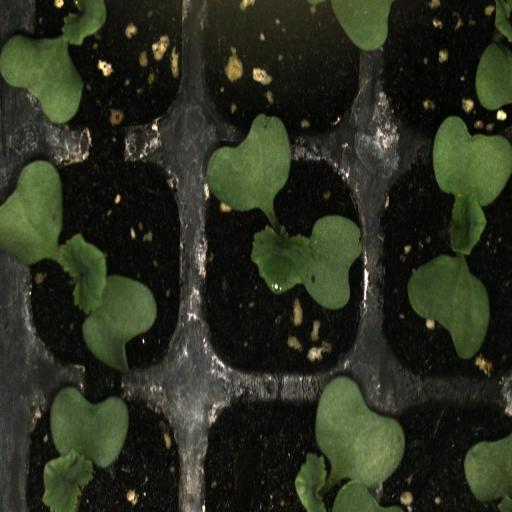Folha: (295, 375, 405, 512), (251, 215, 365, 310), (203, 113, 294, 217), (303, 0, 393, 56), (464, 434, 512, 512), (475, 44, 512, 111)
Germinacao: (187, 146, 377, 386), (14, 148, 195, 385), (380, 143, 512, 386), (12, 0, 190, 141), (15, 385, 189, 512)
